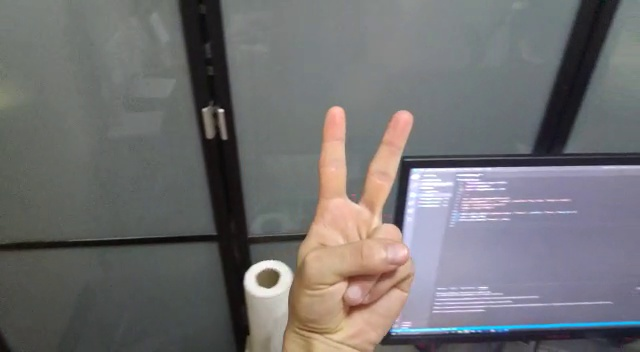Peace: (276, 105, 427, 351)
